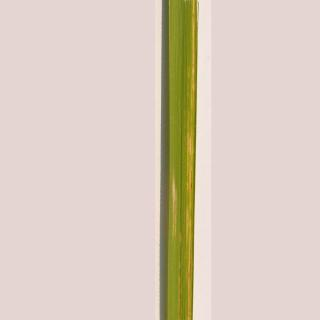Hawar-Daun: (176, 15, 199, 320)
